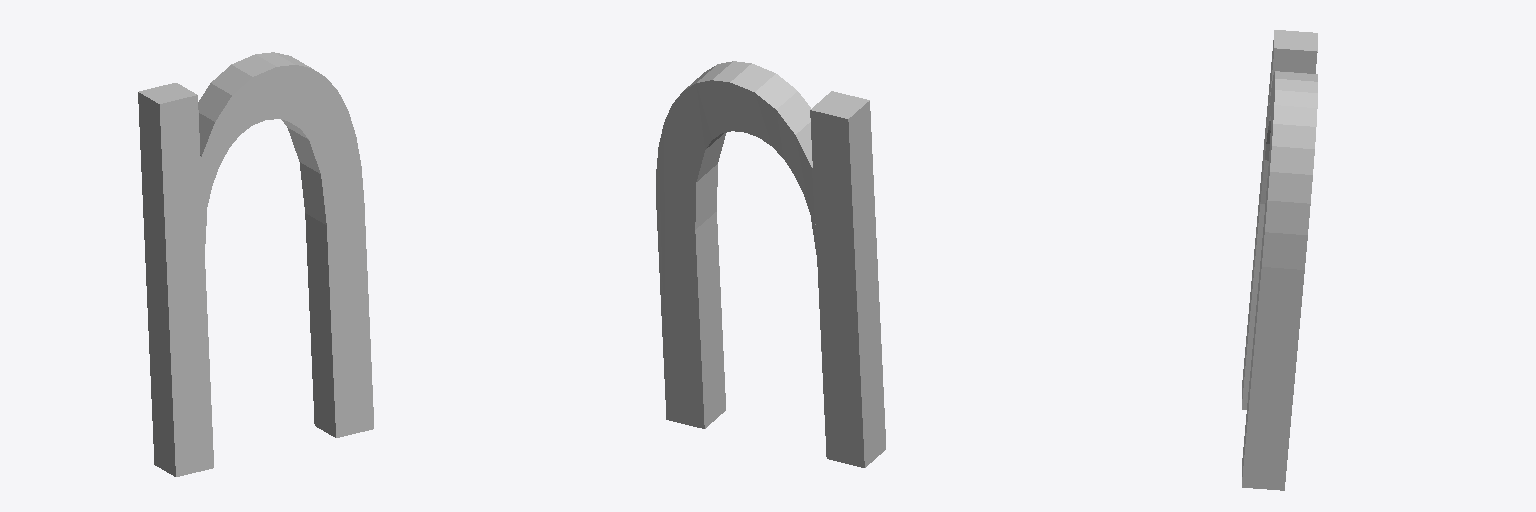
File: original-157.obj
3 renders of one model, left to right at view 1: azimuth 30°, elevation 25°; view 2: azimuth 150°, elevation 25°; view 3: azimuth 270°, elevation 25°, orthographic.
Parts seen in each view (by area): view 1: #ID907; view 2: #ID907; view 3: #ID907.
Boxes of the visible parts, x1=… form: #ID907: x1=138, y1=52, x2=373, y2=476; #ID907: x1=656, y1=61, x2=885, y2=467; #ID907: x1=1242, y1=30, x2=1317, y2=490.
Size of the model in its own units: 0.0043 by 0.0076 by 0.0014.